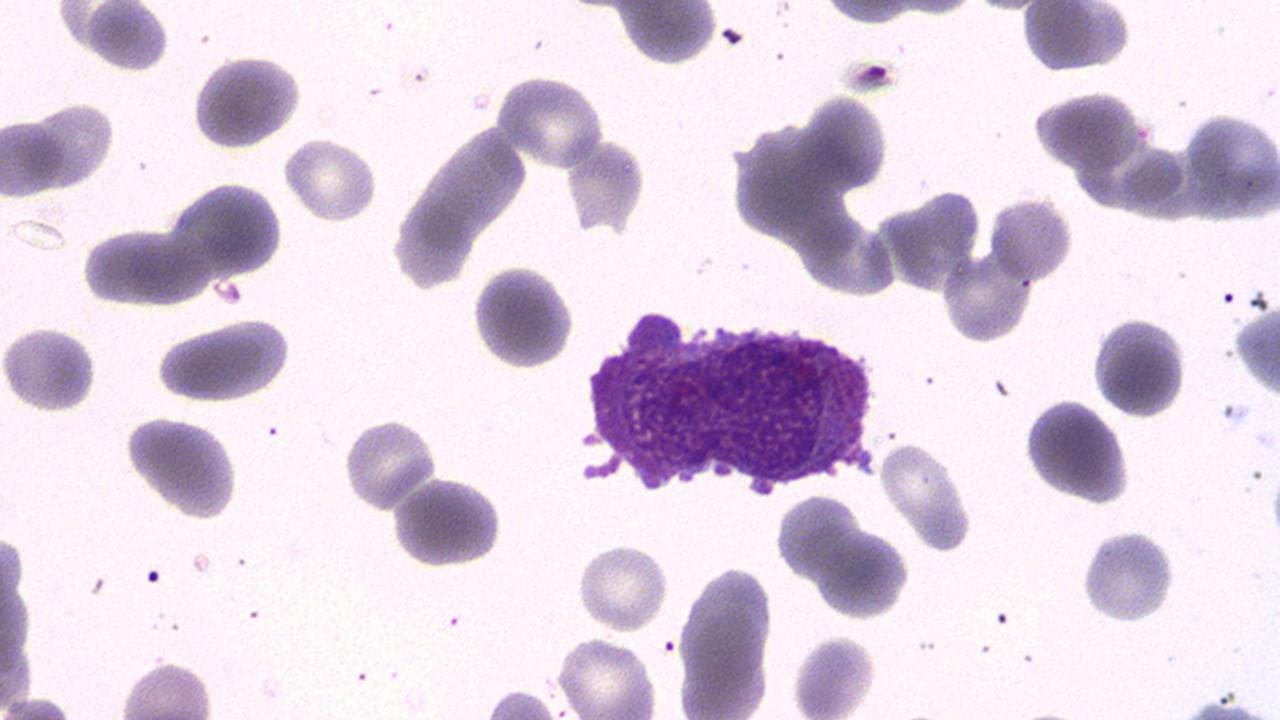Platelets: (467, 262, 579, 370), (390, 476, 508, 570), (339, 416, 441, 512), (2, 324, 102, 415), (564, 138, 650, 234), (787, 630, 882, 716), (86, 3, 174, 73), (836, 56, 902, 96), (1220, 400, 1252, 426), (747, 476, 775, 498), (1248, 290, 1270, 310), (1220, 290, 1234, 304)
RBC: (675, 562, 774, 690), (1181, 106, 1280, 225), (879, 439, 977, 552), (389, 476, 504, 572), (494, 72, 606, 170), (1090, 313, 1192, 420), (77, 226, 204, 308), (1029, 85, 1151, 170), (812, 527, 914, 621), (342, 415, 436, 513), (940, 248, 1033, 346), (572, 542, 671, 634), (0, 323, 97, 416), (556, 634, 662, 718), (280, 136, 379, 223), (564, 132, 647, 235), (32, 99, 120, 192), (986, 193, 1076, 283), (610, 0, 720, 68), (113, 656, 219, 716), (86, 0, 170, 74), (1, 116, 62, 200), (1231, 300, 1280, 400), (819, 1, 918, 27)
WBC: (388, 0, 1280, 720), (0, 0, 459, 682), (562, 280, 896, 514), (148, 313, 298, 408), (470, 256, 584, 375), (678, 561, 778, 695), (123, 414, 244, 523), (1020, 394, 1135, 506), (189, 49, 306, 152), (879, 435, 981, 548), (392, 475, 510, 572), (1088, 312, 1190, 420), (1025, 85, 1151, 172), (1185, 107, 1279, 223), (1075, 523, 1181, 625), (812, 525, 912, 622), (2, 320, 100, 415), (1018, 1, 1136, 74), (31, 96, 117, 194), (610, 1, 724, 67), (86, 1, 172, 71), (0, 111, 63, 200), (1230, 302, 1280, 400)
